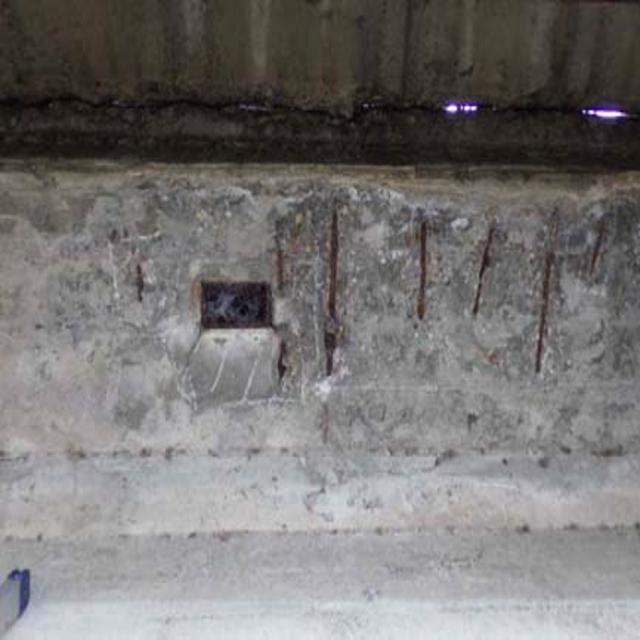spalling: (234, 177, 627, 392)
